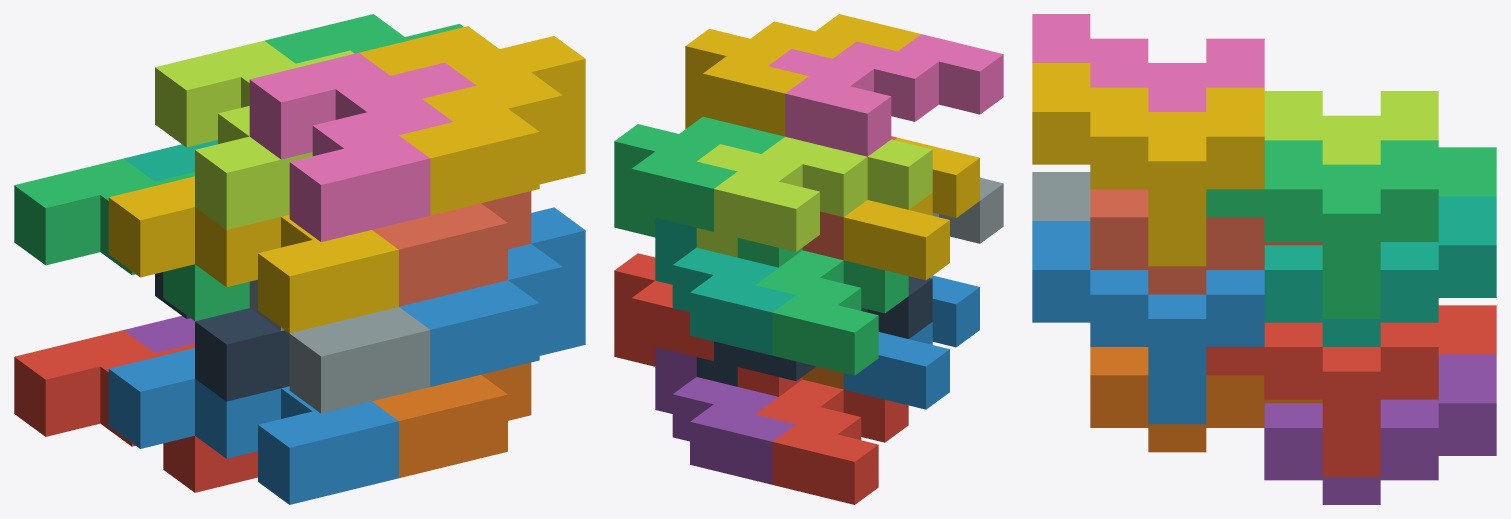
The model's file is tiling.obj.
The picture shows the model from 3 angles, left to right: view 1: azimuth 30°, elevation 25°; view 2: azimuth 150°, elevation 25°; view 3: azimuth 270°, elevation 25°; orthographic projection. The views are drawn at different scales.
Parts seen in each view (by area): view 1: copy_2_domain_4, copy_2_domain_8, copy_1_domain_2, copy_1_domain_4, copy_2_domain_6, copy_2_domain_3, copy_1_domain_1, copy_1_domain_3, copy_2_domain_2, copy_1_domain_8, copy_1_domain_6, copy_2_domain_1 (+3 smaller); view 2: copy_2_domain_4, copy_2_domain_3, copy_1_domain_3, copy_1_domain_1, copy_2_domain_8, copy_2_domain_7, copy_1_domain_7, copy_1_domain_5, copy_1_domain_4, copy_1_domain_2, copy_2_domain_5, copy_2_domain_1 (+3 smaller); view 3: copy_2_domain_8, copy_2_domain_7, copy_2_domain_6, copy_2_domain_5, copy_1_domain_5, copy_1_domain_7, copy_2_domain_4, copy_1_domain_6, copy_1_domain_8, copy_2_domain_3, copy_1_domain_1, copy_1_domain_3 (+1 smaller).
Part boxes in pixels (<box>): copy_2_domain_4: <box>249,53,475,241</box>; copy_2_domain_8: <box>359,26,585,215</box>; copy_1_domain_2: <box>108,348,398,504</box>; copy_1_domain_4: <box>108,176,398,333</box>; copy_2_domain_6: <box>399,207,585,386</box>; copy_2_domain_3: <box>155,41,354,229</box>; copy_1_domain_1: <box>14,330,257,492</box>; copy_1_domain_3: <box>14,158,249,321</box>; copy_2_domain_2: <box>249,279,430,413</box>; copy_1_domain_8: <box>372,191,531,306</box>; copy_1_domain_6: <box>372,362,531,478</box>; copy_2_domain_1: <box>155,272,289,401</box>; copy_2_domain_4: <box>768,34,1003,156</box>; copy_2_domain_3: <box>696,136,932,257</box>; copy_1_domain_3: <box>737,238,908,375</box>; copy_1_domain_1: <box>737,367,908,504</box>; copy_2_domain_8: <box>685,14,920,136</box>; copy_2_domain_7: <box>614,116,784,237</box>; copy_1_domain_7: <box>655,217,795,355</box>; copy_1_domain_5: <box>655,347,795,484</box>; copy_1_domain_4: <box>843,137,979,280</box>; copy_1_domain_2: <box>843,275,979,409</box>; copy_2_domain_5: <box>614,253,713,366</box>; copy_2_domain_1: <box>696,276,932,386</box>; copy_2_domain_8: <box>1032,63,1264,266</box>; copy_2_domain_7: <box>1206,140,1438,318</box>; copy_2_domain_6: <box>1032,221,1264,424</box>; copy_2_domain_5: <box>1206,322,1438,476</box>; copy_1_domain_5: <box>1264,354,1496,504</box>; copy_1_domain_7: <box>1264,196,1496,346</box>; copy_2_domain_4: <box>1032,14,1264,111</box>; copy_1_domain_6: <box>1090,347,1322,452</box>; copy_1_domain_8: <box>1090,189,1322,294</box>; copy_2_domain_3: <box>1264,91,1438,164</box>; copy_1_domain_1: <box>1438,305,1496,354</box>; copy_1_domain_3: <box>1438,147,1496,196</box>.
Size of the model in its own units: 7 by 7 by 8.
